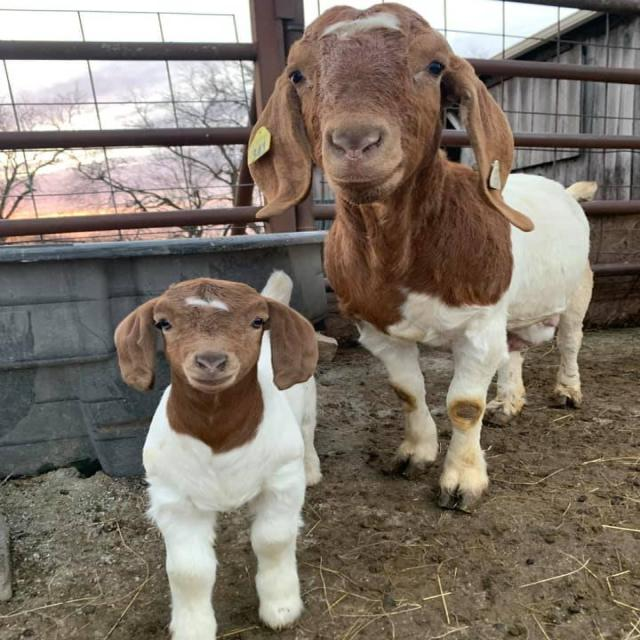Goat: (238, 4, 616, 498), (109, 271, 328, 640)
